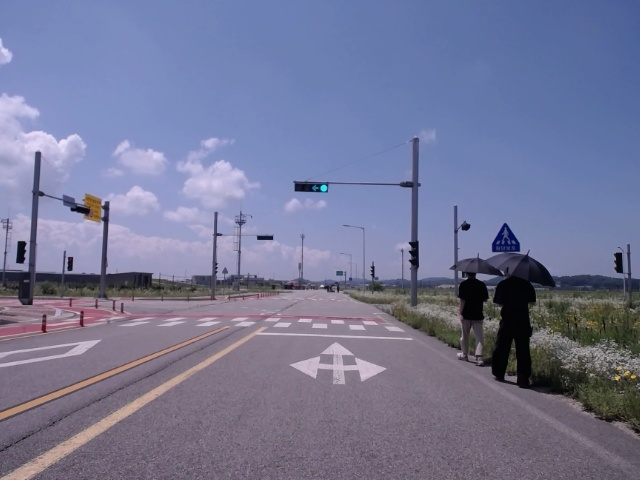all_green_4: (295, 183, 329, 192)
